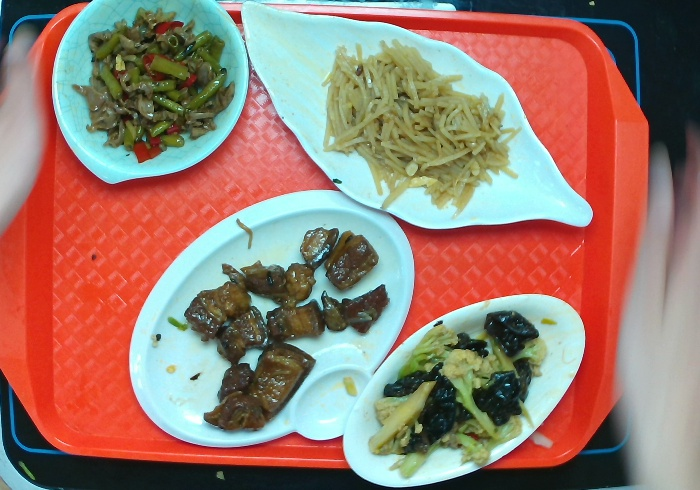RJxy-Bai_Se_Tuo_Yuan: (338, 286, 589, 490)
RJxy-Shu_Ye_Pan: (236, 1, 608, 237)
RJxy-Xiao_Jiao_Yuan_Wan: (43, 1, 253, 189)
RJxy-Zhan_Liao_Pan: (121, 186, 431, 451)
